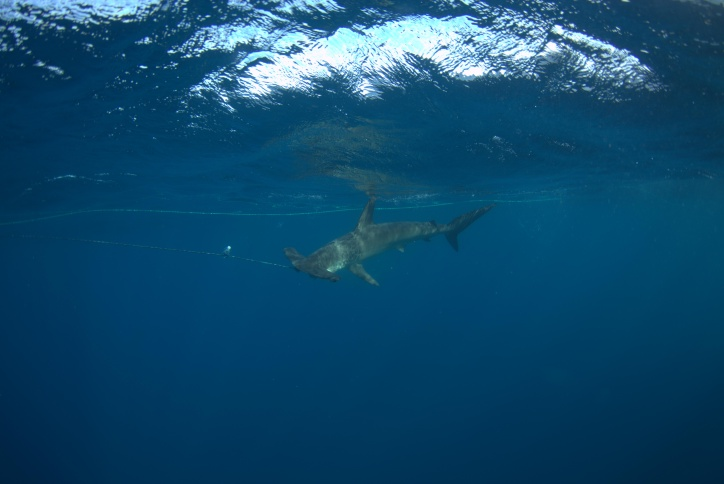Hammer: (217, 176, 509, 320)
